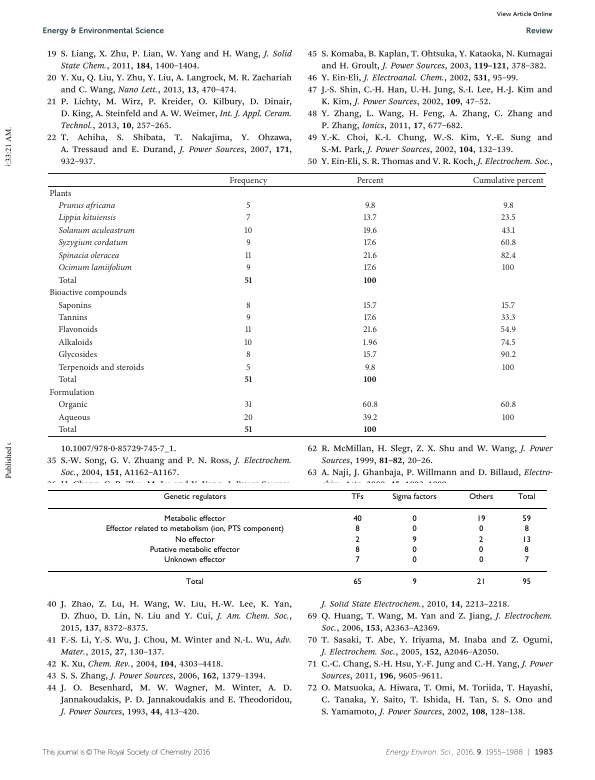borderless: (46, 171, 546, 436), (46, 488, 548, 595)
cell: (104, 525, 284, 535), (57, 362, 145, 373), (148, 545, 240, 555), (48, 287, 128, 298), (57, 225, 136, 236), (57, 262, 133, 273), (472, 175, 545, 186), (57, 238, 129, 248), (57, 250, 120, 261), (162, 492, 227, 502), (57, 200, 116, 211), (57, 213, 117, 223), (163, 515, 226, 524), (163, 556, 226, 565), (48, 387, 95, 398), (391, 492, 437, 502), (229, 175, 268, 186), (57, 325, 99, 335), (174, 535, 215, 545), (57, 350, 98, 360), (57, 337, 94, 348), (57, 412, 91, 423), (57, 399, 89, 410), (57, 300, 92, 310), (57, 312, 88, 323), (356, 175, 385, 186), (468, 492, 494, 502), (48, 188, 72, 198), (57, 275, 78, 286), (57, 424, 78, 435), (57, 375, 78, 385), (516, 492, 536, 502), (185, 578, 204, 588), (500, 250, 517, 261), (500, 337, 517, 348), (362, 399, 379, 410), (500, 399, 517, 410), (362, 225, 378, 236), (362, 250, 378, 261), (500, 312, 516, 323), (362, 337, 378, 348), (362, 412, 378, 423), (500, 213, 517, 223), (500, 238, 517, 248), (500, 325, 517, 335), (500, 350, 517, 360), (501, 225, 516, 236), (362, 325, 378, 335), (363, 262, 377, 273), (501, 262, 515, 273), (363, 312, 377, 323), (501, 362, 515, 373), (501, 412, 515, 423), (363, 213, 378, 223), (363, 300, 378, 310), (501, 300, 516, 310), (363, 350, 378, 360), (502, 200, 515, 211), (350, 492, 364, 502), (363, 238, 377, 248), (363, 424, 378, 433), (364, 200, 376, 211), (364, 362, 376, 373), (243, 412, 254, 423), (363, 275, 378, 283), (363, 375, 378, 383), (521, 535, 531, 545), (352, 578, 362, 588), (476, 578, 486, 588), (521, 578, 531, 588), (244, 225, 253, 236), (244, 337, 253, 348), (244, 399, 253, 410), (352, 515, 362, 524), (476, 515, 486, 524), (521, 515, 531, 524), (244, 250, 252, 261), (244, 424, 253, 433), (244, 325, 252, 335), (245, 262, 252, 273), (245, 312, 252, 323), (244, 275, 253, 283), (244, 375, 253, 383), (245, 238, 252, 248), (245, 300, 252, 310), (245, 350, 252, 360), (245, 200, 251, 211), (245, 362, 251, 373), (354, 525, 360, 535), (411, 525, 417, 535), (478, 525, 484, 535), (523, 525, 529, 535), (354, 535, 360, 545), (411, 535, 417, 545), (478, 535, 484, 545), (354, 545, 360, 555), (411, 545, 417, 555), (478, 545, 484, 555), (523, 545, 529, 555), (411, 578, 417, 588), (245, 213, 251, 223), (411, 515, 417, 524), (354, 556, 360, 565), (411, 556, 417, 565), (478, 556, 484, 565), (523, 556, 529, 565)
